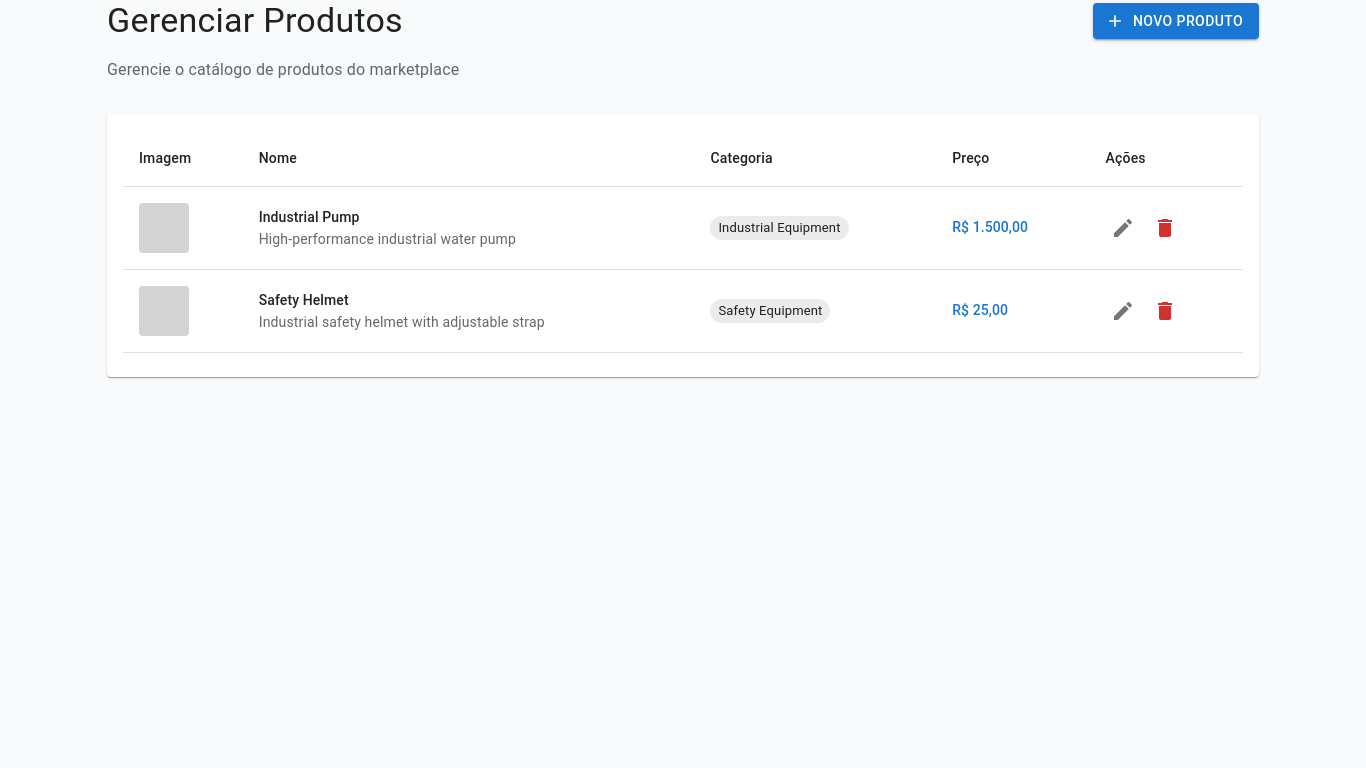
Test: AdminProductsPage › Product Creation › should open create product dialog when clicking new product button
Check: the heading "Industrial Pump" is shown, box [259,209,360,225]
Click the button "Novo Produto" at (1176, 21), box [1093,3,1259,39]
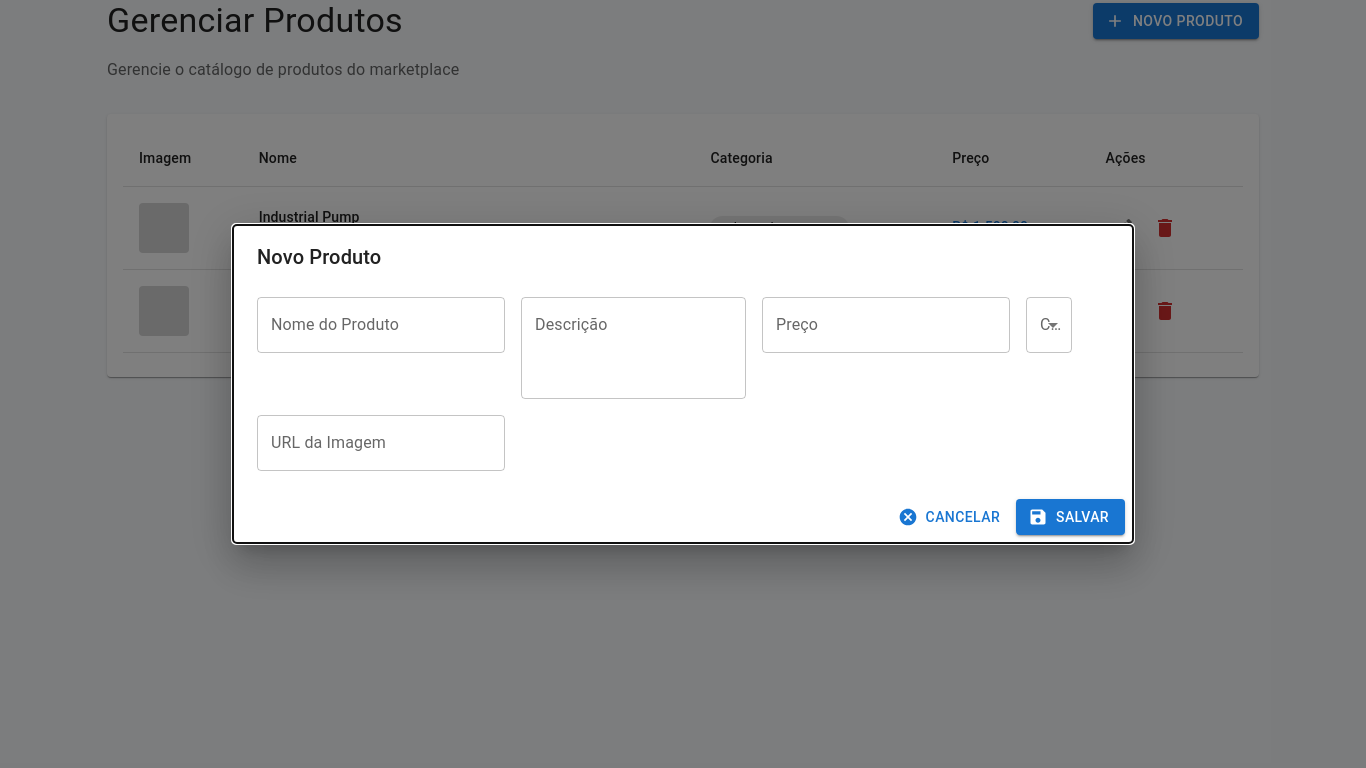
Check: the dialog is shown, box [233,225,1133,543]
Check: the heading "Novo Produto" is shown, box [257,245,381,269]
Check: the field labelled "Nome do Produto" is shown, box [257,297,505,353]
